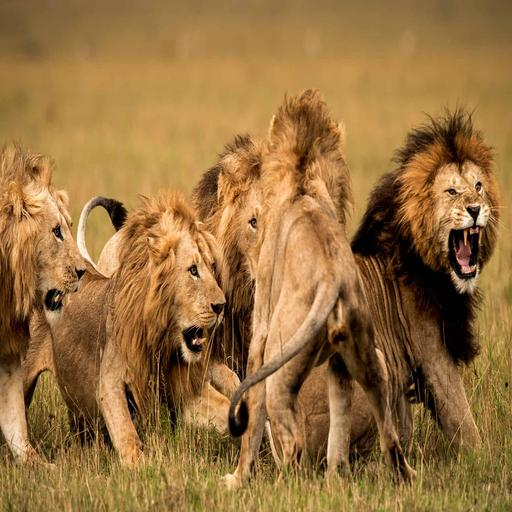Lion: (258, 98, 506, 493), (217, 84, 419, 502), (0, 182, 232, 488), (60, 131, 280, 386), (0, 148, 96, 480)
